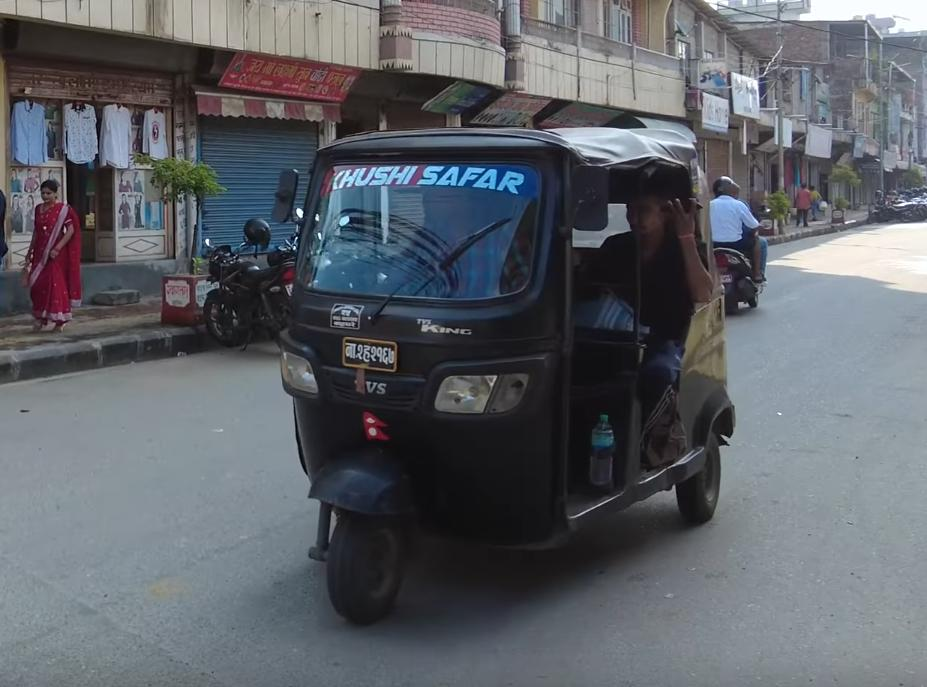auto_rickshaw: (265, 116, 749, 628)
bike: (192, 231, 290, 340)
scooter: (703, 212, 767, 317)
